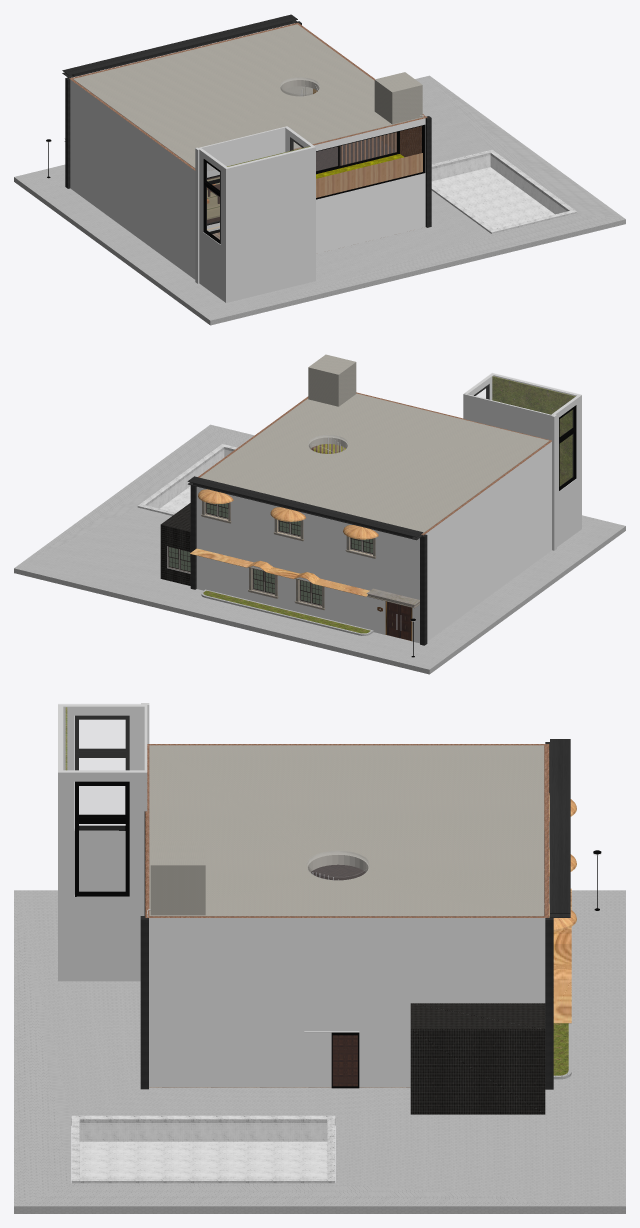
The picture shows the model from 3 angles, top to bottom: view 1: azimuth 30°, elevation 25°; view 2: azimuth 150°, elevation 25°; view 3: azimuth 270°, elevation 25°; orthographic projection. The views are drawn at different scales.
Visible parts, largest first — view 1: base, ceiling.002, wall_outside_2, wall_plant, pool_side, floor_pool_water, Cube.139, Cube.355, water_tower, balcony_big_w_2_wall, Cube.326, livingroom_big_w_2_wall.002 (+8 smaller); view 2: wall_outside_2, ceiling.002, base, wall_plant, Cube.047, Cube.139, Cube.326, water_tower, Cube.355, pool_side, drying_wall, Cube.041 (+9 smaller); view 3: base, ceiling.002, wall_outside_2, pool_side, wall_plant, drying_wall, floor_pool_water, Cube.355, water_tower, Cube.139, livingroom_w.002, livingroom_w.003 (+10 smaller).
Boxes of the visible parts, x1,y1,x2,y2 form: base: (14, 75, 625, 325); ceiling.002: (73, 24, 423, 168); wall_outside_2: (69, 23, 427, 279); wall_plant: (199, 127, 315, 302); pool_side: (431, 149, 576, 233); floor_pool_water: (432, 155, 566, 228); Cube.139: (62, 14, 297, 78); Cube.355: (202, 127, 310, 166); water_tower: (374, 72, 422, 124); balcony_big_w_2_wall: (316, 153, 422, 197); Cube.326: (198, 126, 287, 171); livingroom_big_w_2_wall.002: (341, 133, 396, 165); wall_outside_2: (196, 392, 551, 643); ceiling.002: (200, 393, 549, 533); base: (14, 424, 625, 674); wall_plant: (464, 373, 581, 546); Cube.047: (492, 376, 575, 486); Cube.139: (187, 476, 423, 540); Cube.326: (463, 393, 553, 440); water_tower: (308, 354, 356, 406); Cube.355: (468, 375, 576, 413); pool_side: (137, 444, 237, 515); drying_wall: (160, 503, 190, 585); Cube.041: (190, 548, 369, 596); base: (14, 890, 625, 1213); ceiling.002: (149, 745, 544, 916); wall_outside_2: (145, 744, 549, 1087); pool_side: (71, 1115, 335, 1183); wall_plant: (58, 704, 144, 981); drying_wall: (410, 1003, 545, 1114); floor_pool_water: (80, 1123, 326, 1176); Cube.355: (63, 707, 143, 769); water_tower: (150, 842, 205, 915); Cube.139: (550, 739, 570, 917); livingroom_w.002: (80, 824, 124, 890); livingroom_w.003: (80, 758, 124, 824).
Size of the model in its own units: 27.19 by 9.72 by 22.26.
Materials: 176 (102 with a texture image).
